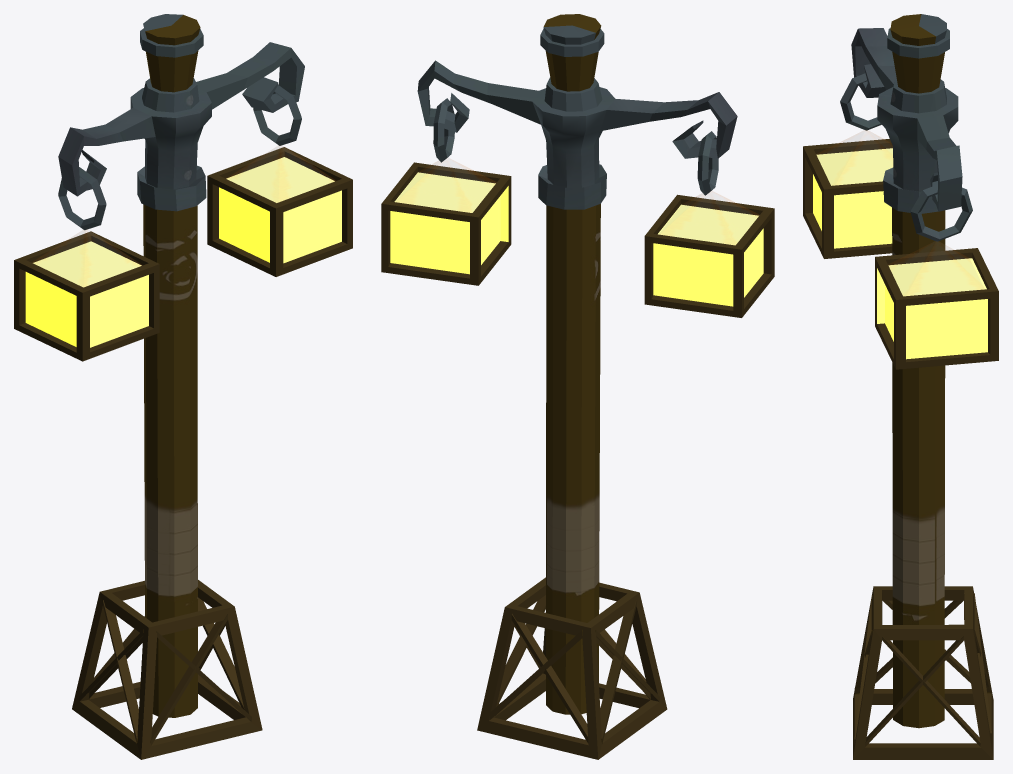
The model's file is lamppost_5405ef96.glb.
3 views of the same model, side by side, from view 1: azimuth 30°, elevation 25°; view 2: azimuth 150°, elevation 25°; view 3: azimuth 270°, elevation 25° (orthographic).
Visible parts, largest first — view 1: _LP; view 2: _LP; view 3: _LP.
Part boxes in pixels (bbox=[...]): _LP: bbox=[14, 14, 352, 759]; _LP: bbox=[381, 14, 774, 759]; _LP: bbox=[803, 14, 998, 759].
Bounding box in the file's own units: 232 × 462 × 116.
Materials: 5 (5 with a texture image).
